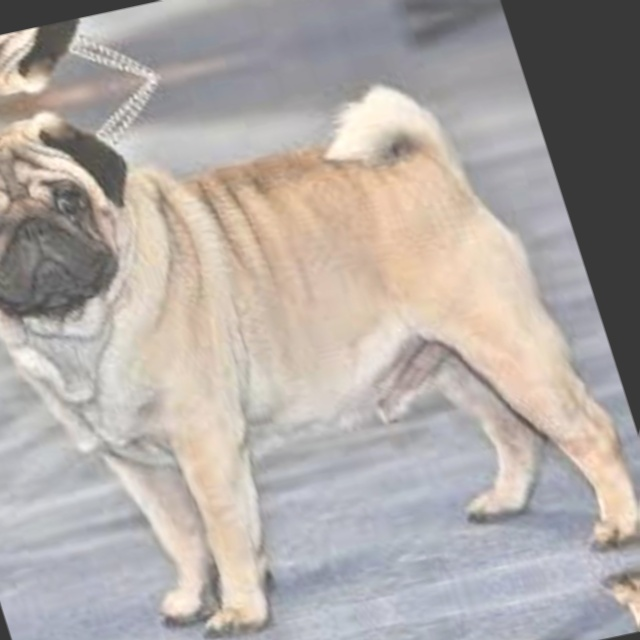dog: (0, 7, 640, 640), (0, 0, 500, 129), (58, 554, 640, 640)
